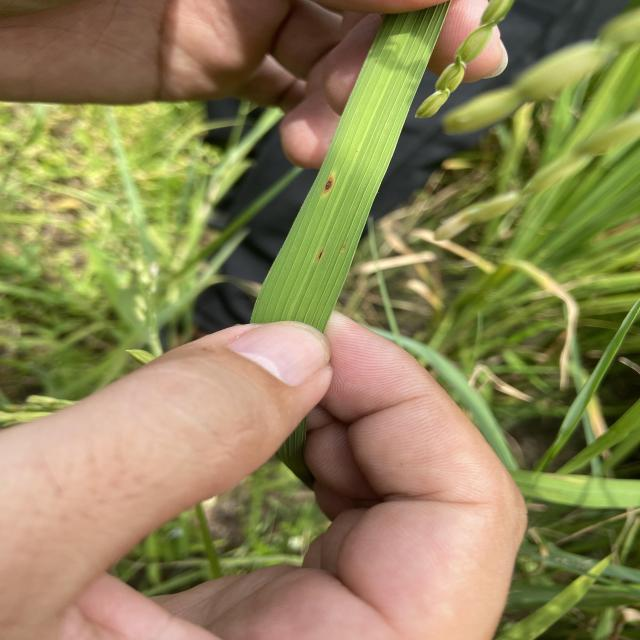Dao on: (322, 176, 334, 196)
